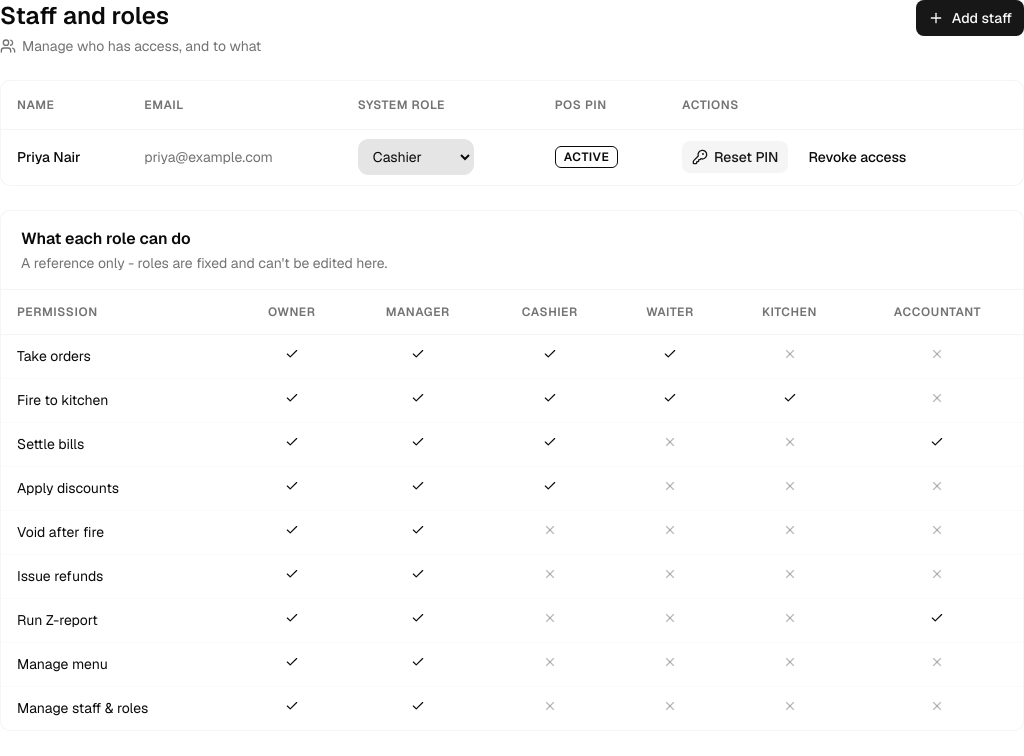
Test: Staff › adds a staff member through the Add staff dialog
The width and height of the screenshot is (1024, 756).
Expected: the row with test id "staff-row-s1" is shown, [1, 129, 1023, 185]
Click the button with test id "staff-add-open": (970, 18) [916, 0, 1023, 36]
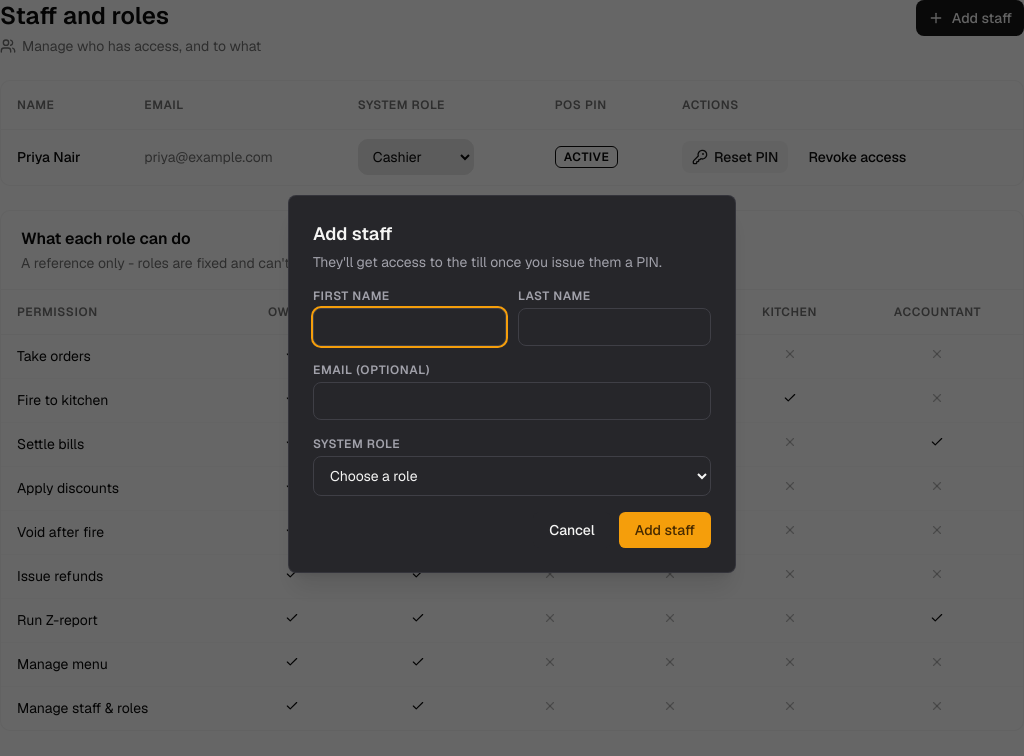
In the field with test id "add-staff-first-name": (410, 327) [313, 308, 506, 346], type "Arjun"
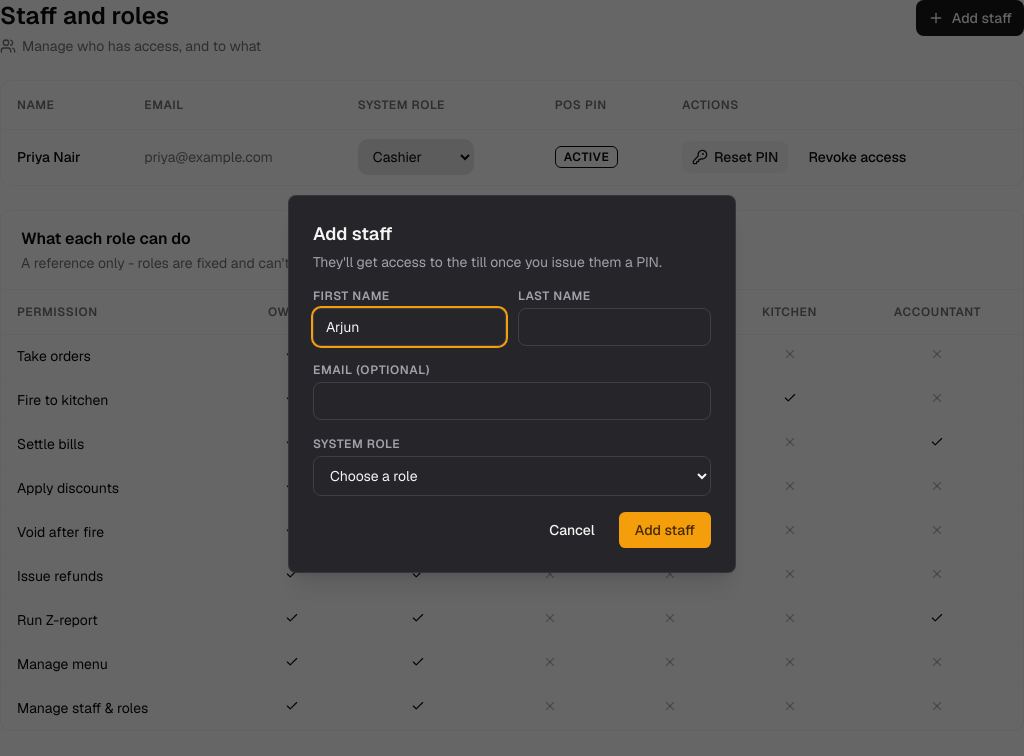
In the field with test id "add-staff-last-name": (614, 327) [518, 308, 711, 346], type "Rao"
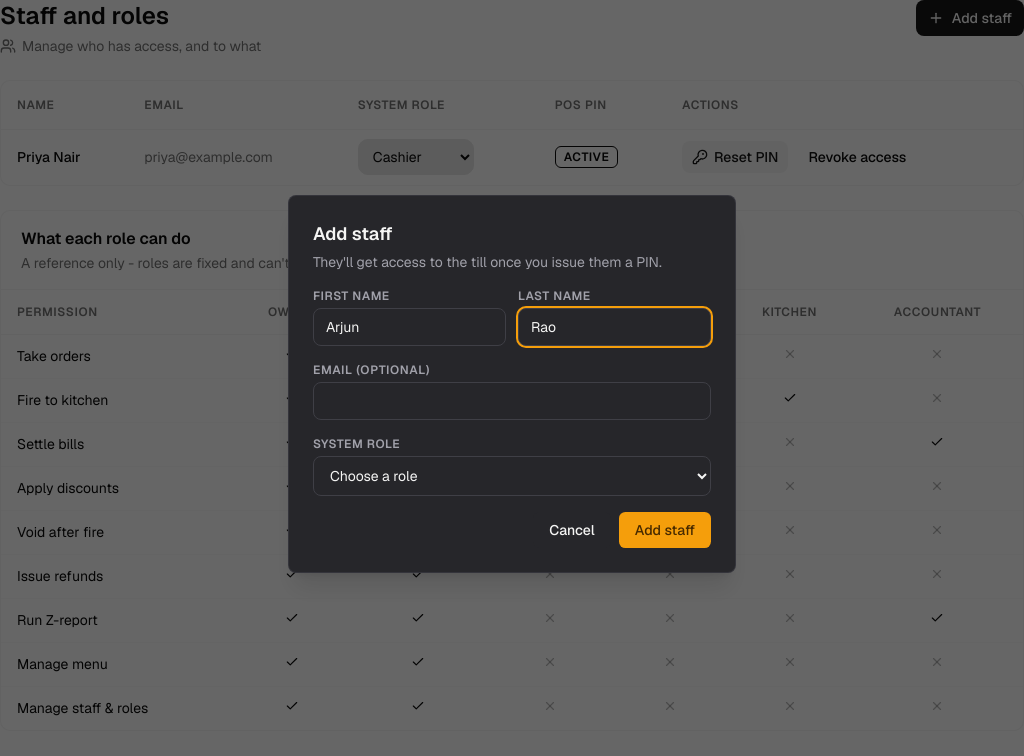
In the field with test id "add-staff-email": (512, 401) [313, 382, 711, 420], type "arjun@example.com"
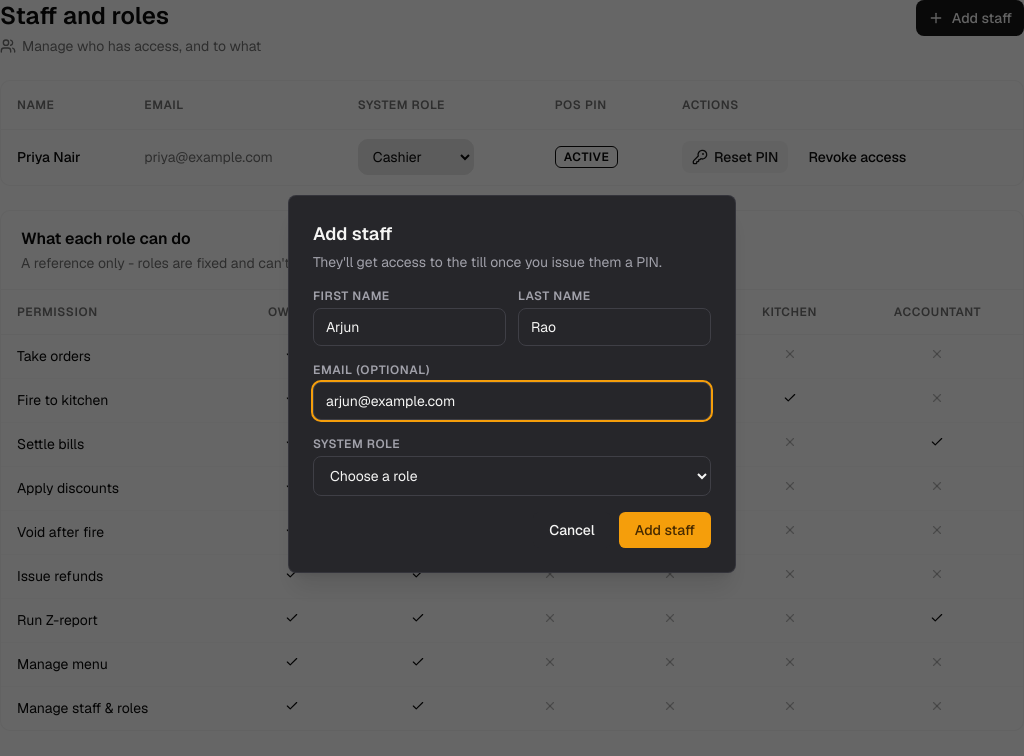
Select "Waiter" in the dropdown with test id "add-staff-role": (512, 476) [313, 456, 711, 496]
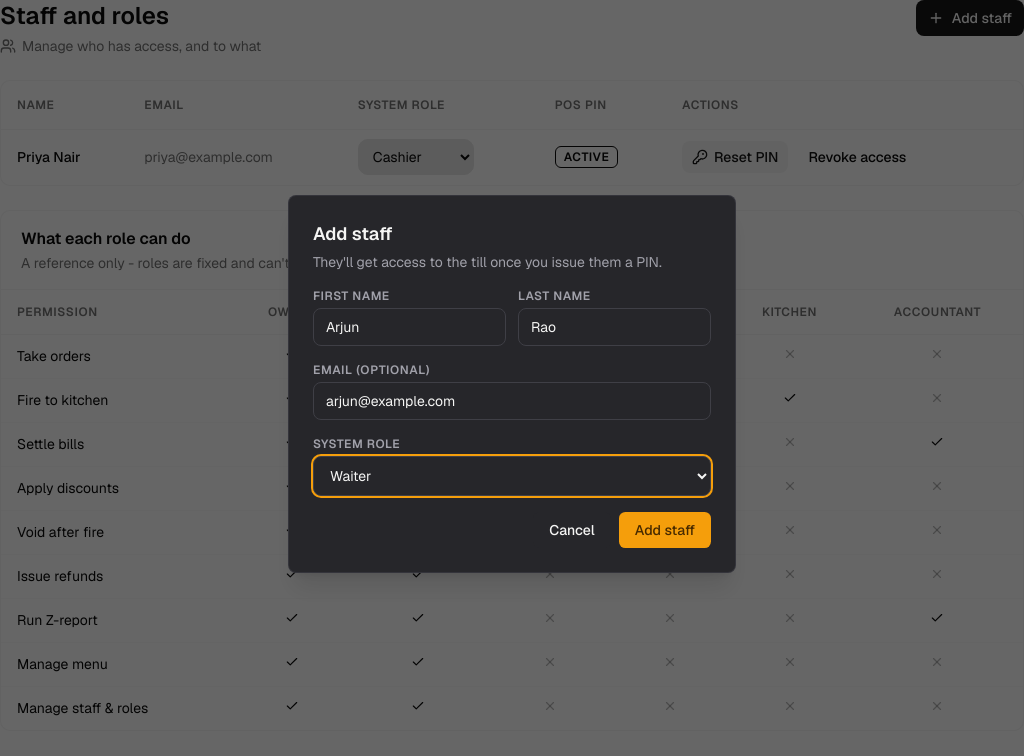
Click the button with test id "add-staff-submit": (665, 530) [619, 512, 711, 548]
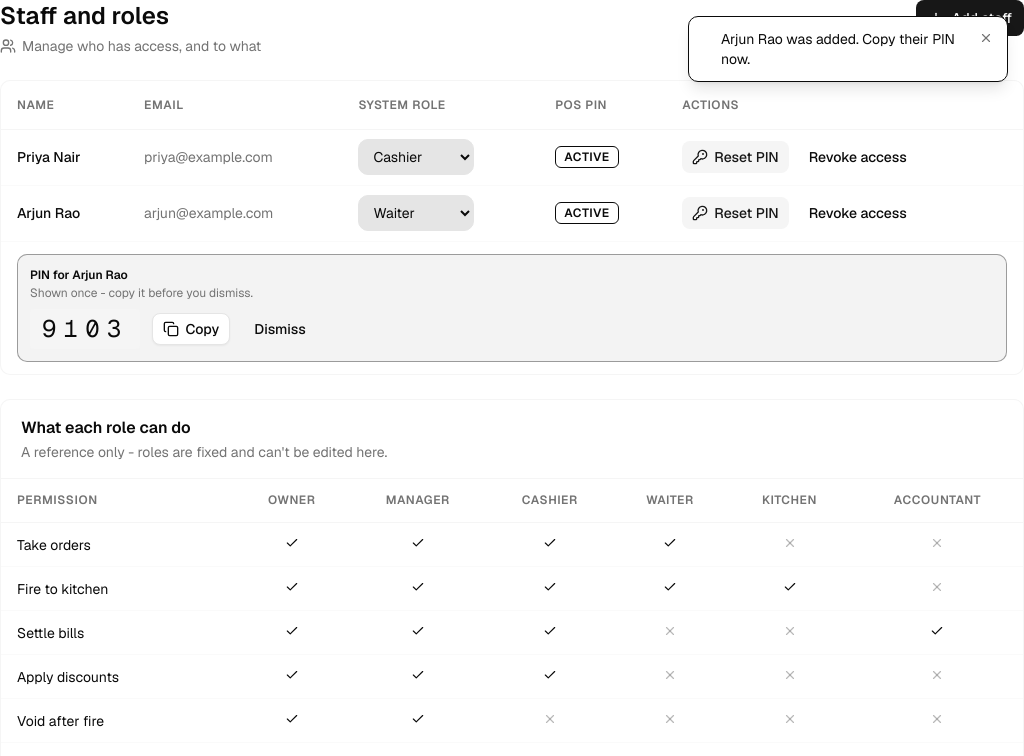
Result: the row with test id "staff-row-s2" is shown at [1, 185, 1023, 241]
Result: the element with test id "toast-success" reads "Arjun Rao was added. Copy their PIN now." at [721, 30, 955, 68]
Result: the text "9103" is shown at [30, 308, 140, 348]
